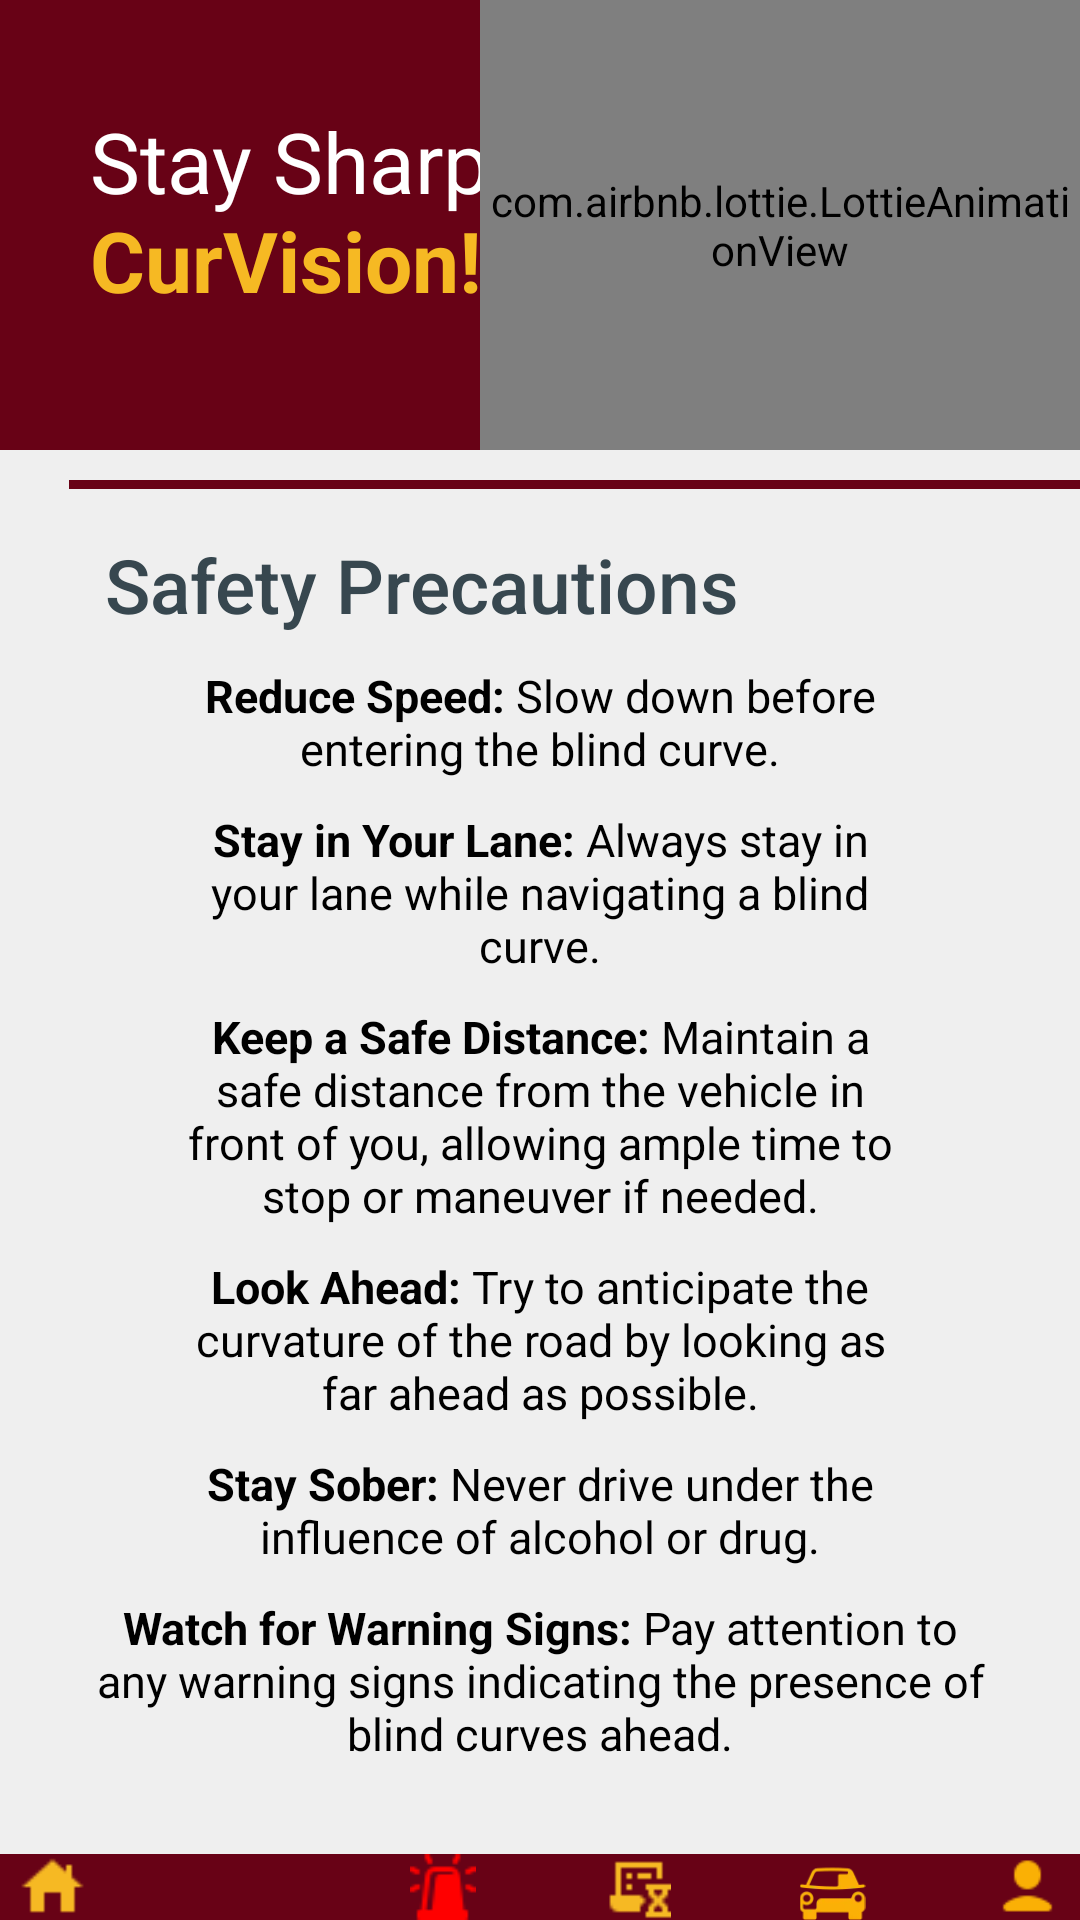

Where to tap for icons on this 1080 × 1920 app screen, as [x,y]:
car: [833,1893]
history: [640,1889]
home: [52,1886]
prof: [1027,1886]
redemergency: [443,1893]
